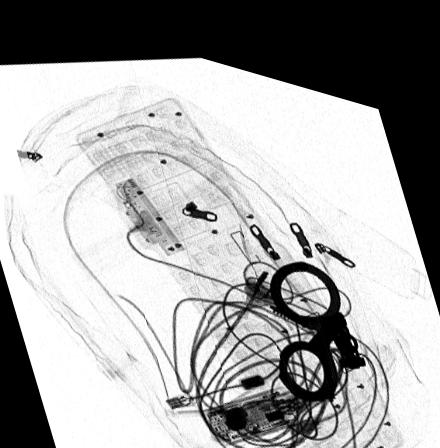HandCuffs: (268, 243, 366, 383)
